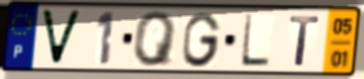1: (95, 10, 115, 67)
G: (181, 11, 223, 69)
L: (238, 12, 273, 69)
Q: (132, 10, 180, 69)
T: (287, 14, 322, 69)
V: (39, 8, 85, 68)
